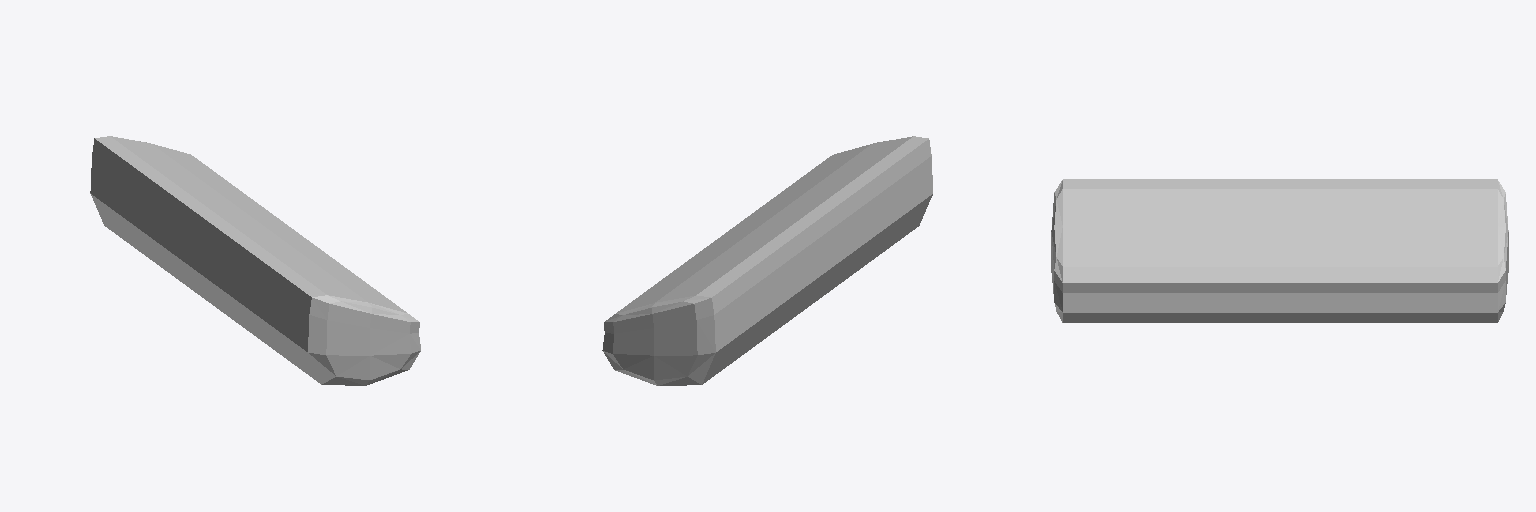
The model's file is log1.obj.
3 views of the same model, side by side, from view 1: azimuth 30°, elevation 25°; view 2: azimuth 150°, elevation 25°; view 3: azimuth 270°, elevation 25° (orthographic).
Visible parts, largest first — view 1: Cube; view 2: Cube; view 3: Cube.
Part boxes in pixels (left/top/right/bottom): Cube: left=90, top=136, right=420, bottom=385; Cube: left=602, top=136, right=932, bottom=385; Cube: left=1051, top=179, right=1508, bottom=322.
Bounding box in the file's own units: 0.5734 × 0.4914 × 2.